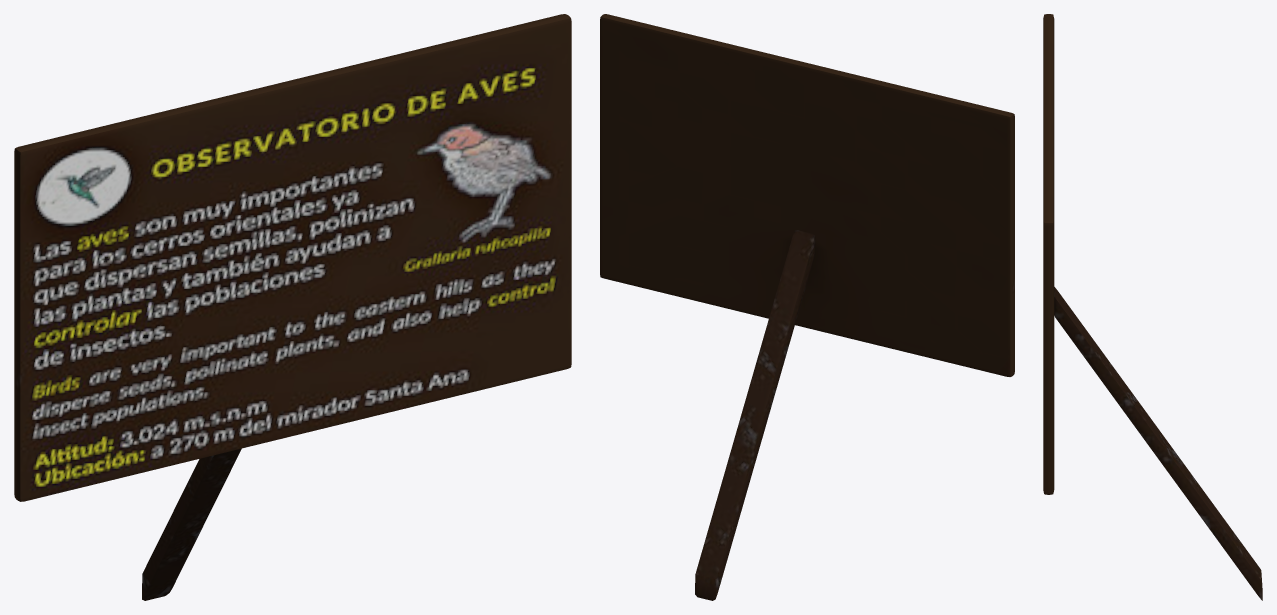
File: letrero-observatorio-de-aves.glb
3 renders of one model, left to right at view 1: azimuth 30°, elevation 25°; view 2: azimuth 150°, elevation 25°; view 3: azimuth 270°, elevation 25°, orthographic. The views are drawn at different scales.
Parts seen in each view (by area): view 1: Mesh_0; view 2: Mesh_0; view 3: Mesh_0.
Boxes of the visible parts, <box> form: Mesh_0: <box>14,14,571,600</box>; Mesh_0: <box>600,14,1014,600</box>; Mesh_0: <box>1043,14,1262,600</box>.
Bounding box in the file's own units: 8.9 × 9.49 × 3.94.
Materials: 2 (2 with a texture image).
